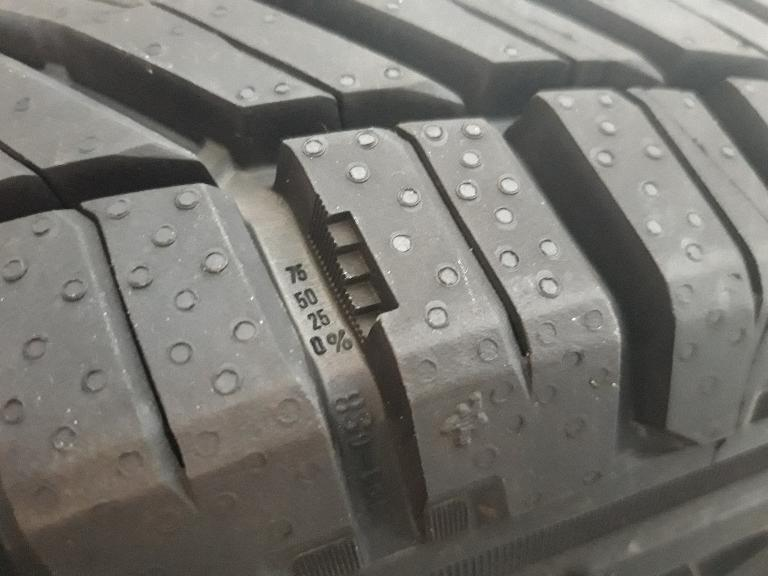temoin:100: (306, 192, 403, 349)
